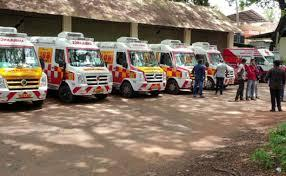ER: (37, 31, 112, 100), (99, 36, 166, 95), (1, 27, 47, 105), (152, 40, 202, 90), (194, 42, 234, 89), (224, 45, 277, 76)
